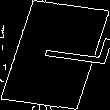L_W: (11, 35, 99, 75)
